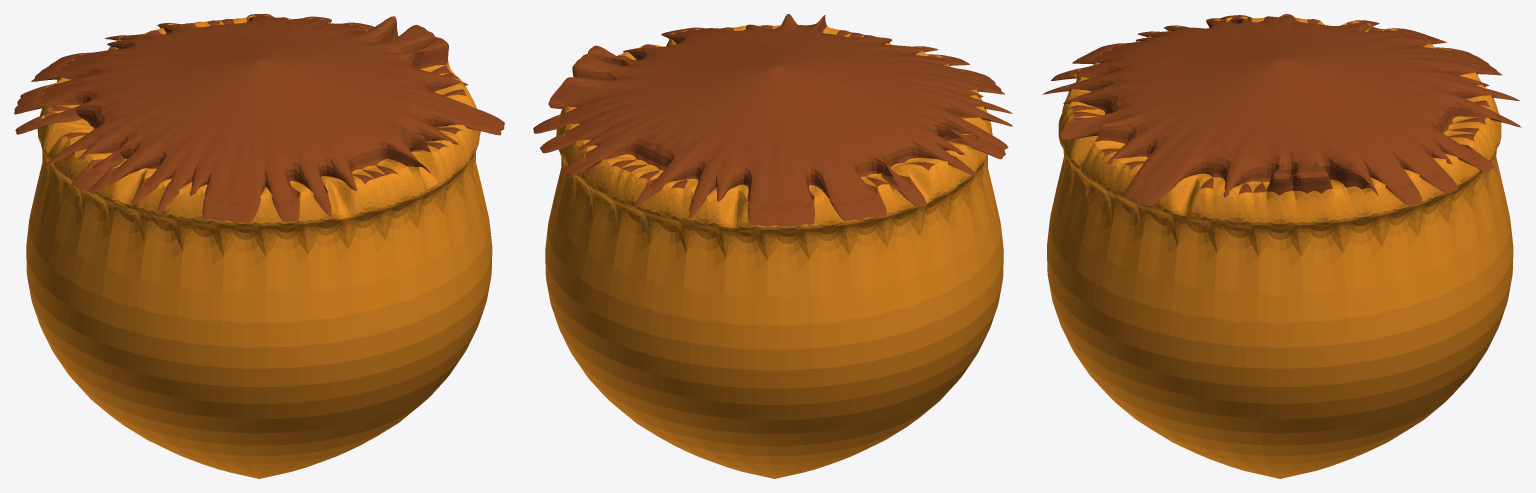
Rendered from avela.fbx.
3 views of the same model, side by side, from view 1: azimuth 30°, elevation 25°; view 2: azimuth 150°, elevation 25°; view 3: azimuth 270°, elevation 25° (orthographic).
Visible parts, largest first — view 1: Cylinder; view 2: Cylinder; view 3: Cylinder.
Boxes of the visible parts, left/top/right/bottom form: Cylinder: left=14, top=14, right=504, bottom=478; Cylinder: left=533, top=14, right=1012, bottom=478; Cylinder: left=1042, top=14, right=1521, bottom=478.
Size of the model in its own units: 39.11 by 37.93 by 39.34.
